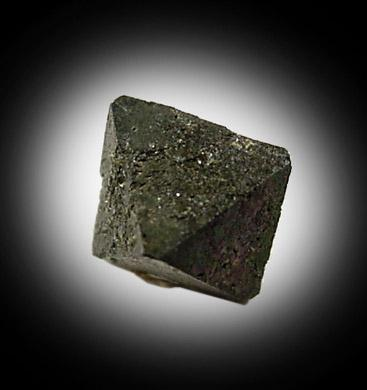magnetite: (93, 97, 292, 304)
